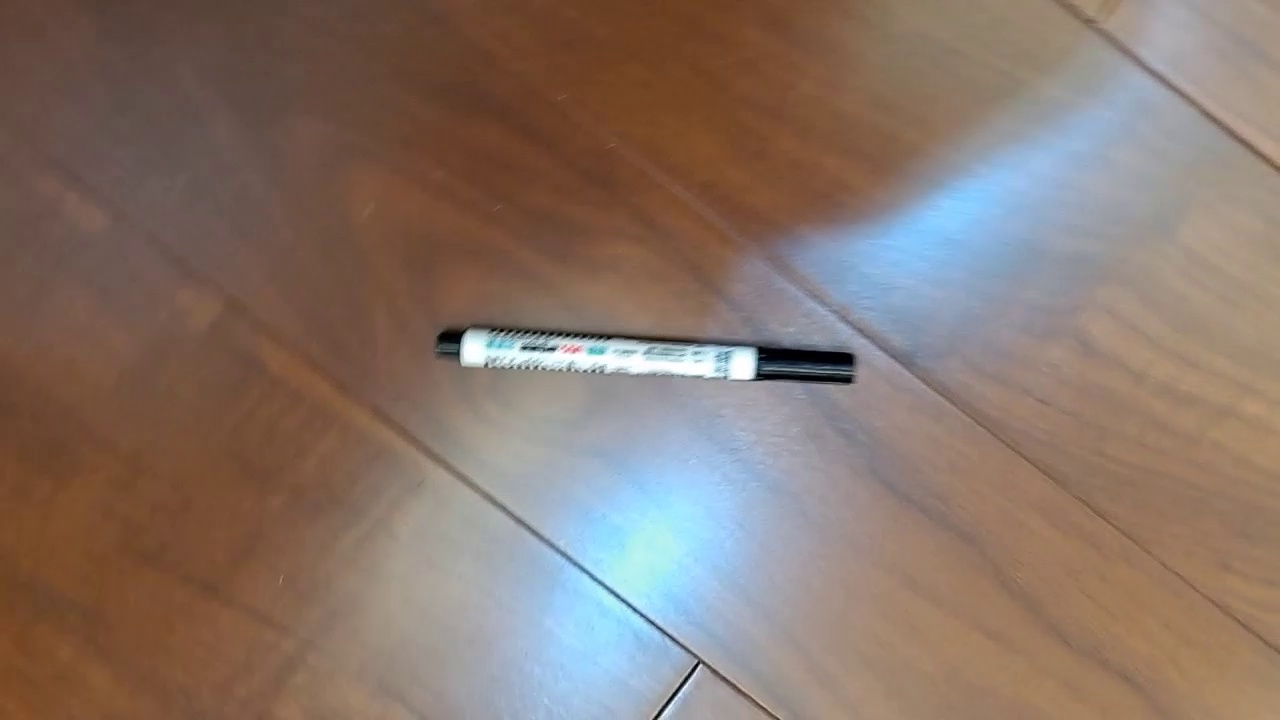pen: (433, 323, 860, 386)
